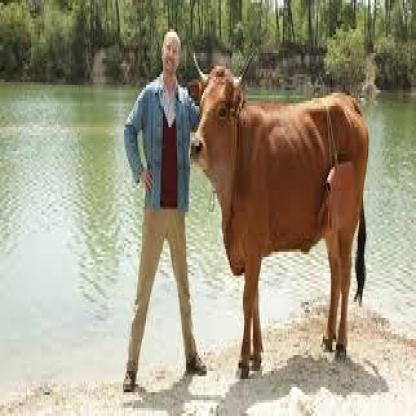cow: (189, 53, 369, 376)
